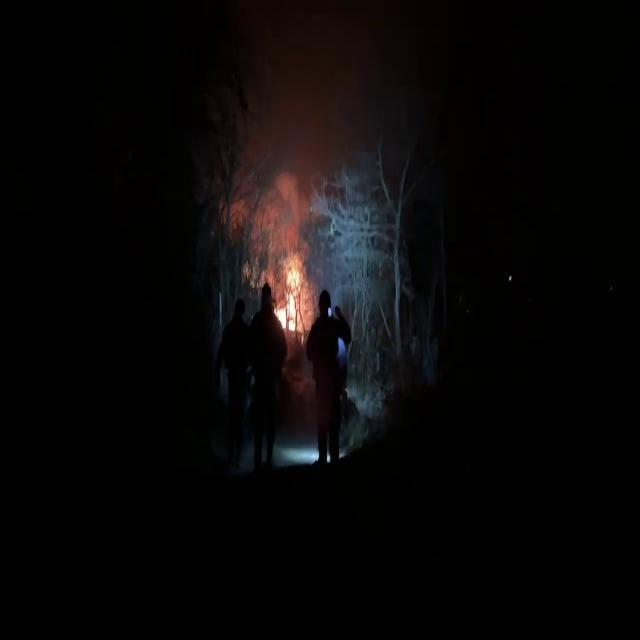Fire: (272, 250, 310, 338)
Smoke: (246, 150, 320, 262)
